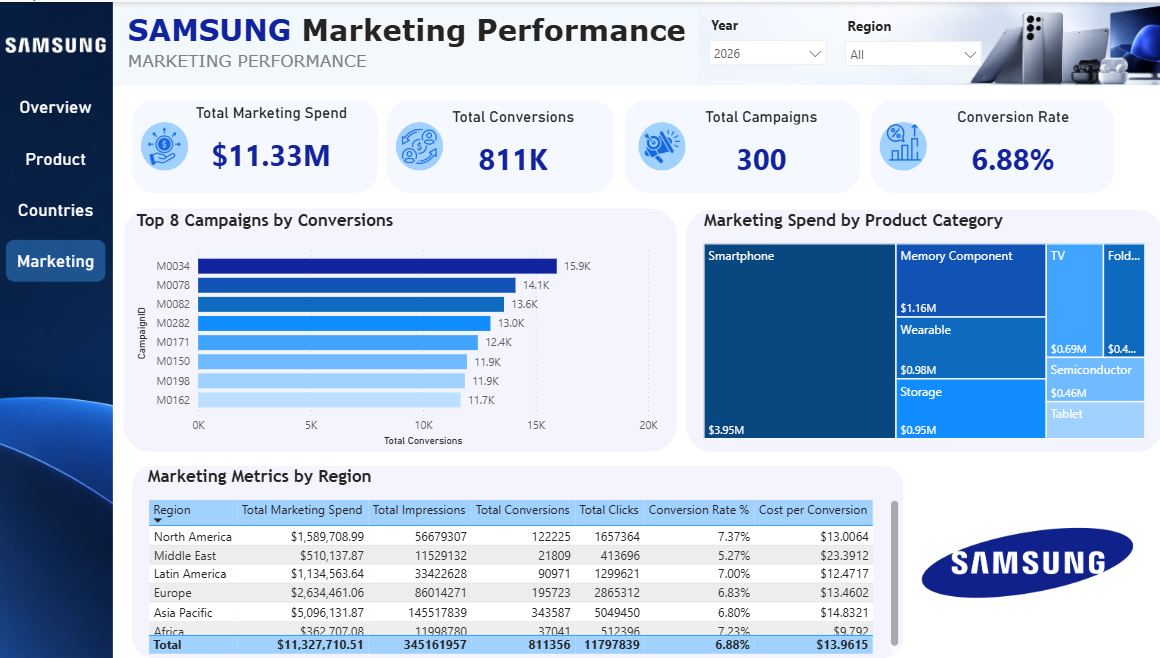

The page's visual inventory and layout, read from the dashboard file:
{"tool":"powerbi","page":{"name":"MARKETING PERFORMANCE","canvas":[1280,720],"ordinal":3},"visuals":[{"type":"shape","box":[148.2,509.1,846.7,211.3],"z":0},{"type":"shape","box":[756.1,227.8,524.2,266.2],"z":1000},{"type":"shape","box":[138.6,226.4,607.9,267.6],"z":2000},{"type":"shape","box":[959.2,107,267.6,102.9],"z":3000},{"type":"shape","box":[688.9,107,259.3,102.9],"z":4000},{"type":"shape","box":[428.1,107,249.7,102.9],"z":5000},{"type":"shape","box":[148.2,107,270.3,102.9],"z":6000},{"type":"cardVisual","title":"Total Marketing Spend","fields":{"Data":["Calendar.Total Marketing Spend"]},"box":[183.9,111.1,234.6,96.1],"z":7000},{"type":"cardVisual","title":"Total Conversions","fields":{"Data":["Calendar.Total Conversions"]},"box":[455.6,115.3,222.3,94.7],"z":8000},{"type":"cardVisual","title":"Total Campaigns","fields":{"Data":["Calendar.Total Campaigns"]},"box":[730,115.3,218.2,94.7],"z":9000},{"type":"cardVisual","title":"Conversion Rate","fields":{"Data":["Calendar.Conversion Rate %"]},"box":[1004.5,115.3,222.3,94.7],"z":10000},{"type":"clusteredBarChart","title":"Top 8 Campaigns by Conversions","fields":{"Category":["Samsung_Marketing.CampaignID"],"Y":["Calendar.Total Conversions"]},"box":[148.2,227.8,581.8,264.8],"z":11000},{"type":"treemap","title":"Marketing Spend by Product Category","fields":{"Group":["Samsung_Products.Product Category"],"Values":["Calendar.Total Marketing Spend"]},"box":[771.2,227.8,494,256.6],"z":12000},{"type":"tableEx","title":"Marketing Metrics by Region","fields":{"Values":["Samsung_Countries.Region","Calendar.Total Marketing Spend","Calendar.Total Impressions","Calendar.Total Conversions","Calendar.Total Clicks","Calendar.Conversion Rate %","Calendar.Cost per Conversion"]},"box":[160.5,509.1,834.3,211.3],"z":13000},{"type":"image","box":[0,0,127.6,720.4],"z":14000},{"type":"image","box":[746.5,0,533.8,91.9],"z":15000},{"type":"shape","box":[127.6,0,643.6,91.9],"z":16000},{"type":"image","box":[9.6,20.6,109.8,53.5],"z":17000},{"type":"textbox","box":[138.6,5.5,743.7,64.5],"z":18000},{"type":"textbox","box":[138.6,48,299.1,43.9],"z":19000},{"type":"slicer","fields":{"Values":["Samsung_Sales.OrderDate.Variation.Date Hierarchy.Year"]},"box":[771.2,9.6,149.6,70],"z":20000},{"type":"slicer","fields":{"Values":["Samsung_Countries.Region"]},"box":[920.8,11,170.2,72.7],"z":21000},{"type":"actionButton","box":[9.6,91.9,109.8,46.7],"z":22000},{"type":"actionButton","box":[9.6,148.2,109.8,46.7],"z":23000},{"type":"actionButton","box":[9.6,204.5,109.8,46.7],"z":24000},{"type":"actionButton","box":[9.6,260.7,109.8,46.7],"z":25000},{"type":"image","box":[1014.1,532.4,234.6,166],"z":26000},{"type":"shape","box":[157.8,131.7,52.1,53.5],"z":27000},{"type":"shape","box":[437.7,131.7,52.1,53.5],"z":28000},{"type":"shape","box":[703.9,131.7,52.1,53.5],"z":29000},{"type":"shape","box":[968.8,131.7,52.1,53.5],"z":30000},{"type":"image","box":[163.3,131.7,41.2,53.5],"z":31000},{"type":"image","box":[443.2,131.7,41.2,53.5],"z":32000},{"type":"image","box":[709.4,131.7,41.2,53.5],"z":33000},{"type":"image","box":[975.6,131.7,39.8,45.3],"z":34000}]}

Visuals, with their boxes on the page's 1280x720 design canvas (x1, y1, x2, y2). These are canvas units, not pixel positions in the 1160x658 screenshot, which may show the page scaled, cropped or inside an application window:
shape: [x1=148, y1=509, x2=995, y2=720]
shape: [x1=756, y1=228, x2=1280, y2=494]
shape: [x1=139, y1=226, x2=746, y2=494]
shape: [x1=959, y1=107, x2=1227, y2=210]
shape: [x1=689, y1=107, x2=948, y2=210]
shape: [x1=428, y1=107, x2=678, y2=210]
shape: [x1=148, y1=107, x2=418, y2=210]
"Total Marketing Spend" cardVisual: [x1=184, y1=111, x2=418, y2=207]
"Total Conversions" cardVisual: [x1=456, y1=115, x2=678, y2=210]
"Total Campaigns" cardVisual: [x1=730, y1=115, x2=948, y2=210]
"Conversion Rate" cardVisual: [x1=1004, y1=115, x2=1227, y2=210]
"Top 8 Campaigns by Conversions" clusteredBarChart: [x1=148, y1=228, x2=730, y2=493]
"Marketing Spend by Product Category" treemap: [x1=771, y1=228, x2=1265, y2=484]
"Marketing Metrics by Region" tableEx: [x1=160, y1=509, x2=995, y2=720]
image: [x1=0, y1=0, x2=128, y2=720]
image: [x1=746, y1=0, x2=1280, y2=92]
shape: [x1=128, y1=0, x2=771, y2=92]
image: [x1=10, y1=21, x2=119, y2=74]
textbox: [x1=139, y1=6, x2=882, y2=70]
textbox: [x1=139, y1=48, x2=438, y2=92]
slicer - Samsung_Sales.OrderDate.Variation.Date Hierarchy.Year: [x1=771, y1=10, x2=921, y2=80]
slicer - Samsung_Countries.Region: [x1=921, y1=11, x2=1091, y2=84]
actionButton: [x1=10, y1=92, x2=119, y2=139]
actionButton: [x1=10, y1=148, x2=119, y2=195]
actionButton: [x1=10, y1=204, x2=119, y2=251]
actionButton: [x1=10, y1=261, x2=119, y2=307]
image: [x1=1014, y1=532, x2=1249, y2=698]
shape: [x1=158, y1=132, x2=210, y2=185]
shape: [x1=438, y1=132, x2=490, y2=185]
shape: [x1=704, y1=132, x2=756, y2=185]
shape: [x1=969, y1=132, x2=1021, y2=185]
image: [x1=163, y1=132, x2=204, y2=185]
image: [x1=443, y1=132, x2=484, y2=185]
image: [x1=709, y1=132, x2=751, y2=185]
image: [x1=976, y1=132, x2=1015, y2=177]
